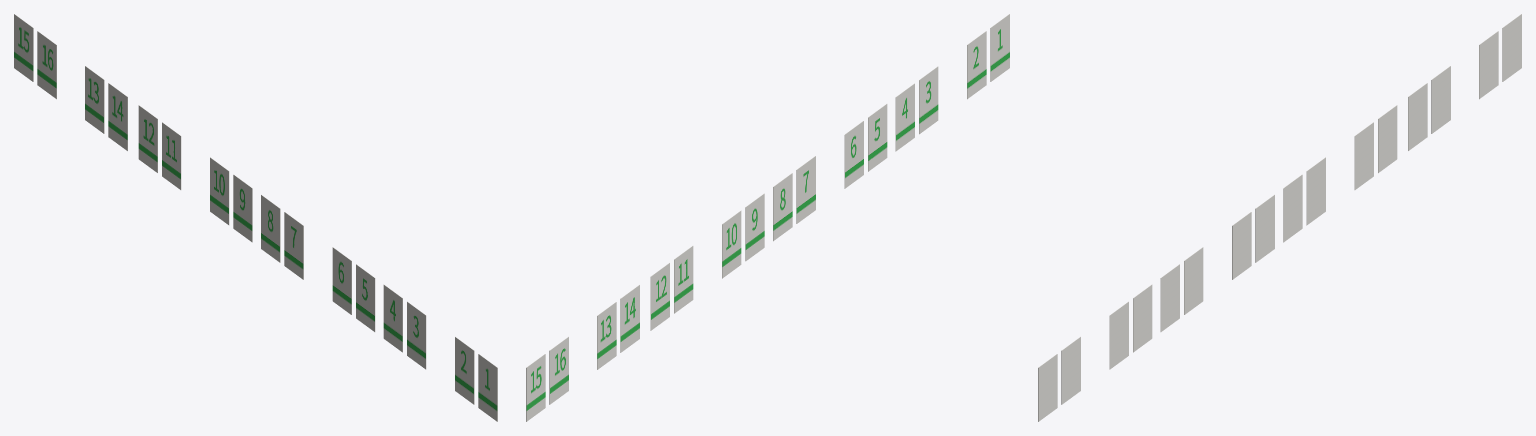
The model's file is SND_lkbh.glb.
3 views of the same model, side by side, from view 1: azimuth 30°, elevation 25°; view 2: azimuth 150°, elevation 25°; view 3: azimuth 330°, elevation 25° (orthographic).
Visible parts, largest first — view 1: Asset3DLoader.sceneRoot; view 2: Asset3DLoader.sceneRoot; view 3: Asset3DLoader.sceneRoot.
Part boxes in pixels (x1,y1,x2,y2): Asset3DLoader.sceneRoot: (14, 14, 497, 421); Asset3DLoader.sceneRoot: (526, 14, 1009, 421); Asset3DLoader.sceneRoot: (1038, 14, 1521, 421).
Bounding box in the file's own units: 13.19 × 1762 × 28539.
Materials: 1 (1 with a texture image).
